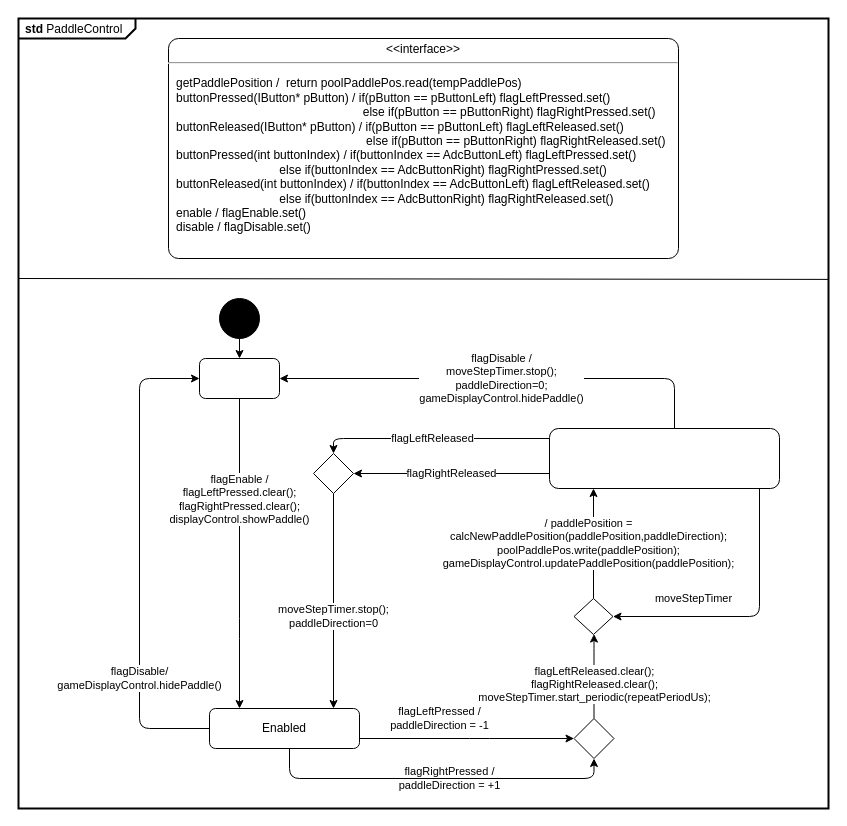
Some shapes in this 847 by 826 pixel diagram are drawn without their labels. The shapes that lost their labels are listed below. From the top down, each one's centre as x and y in pixels, then its label:
(239,378): Disabled
(664,458): Moving
